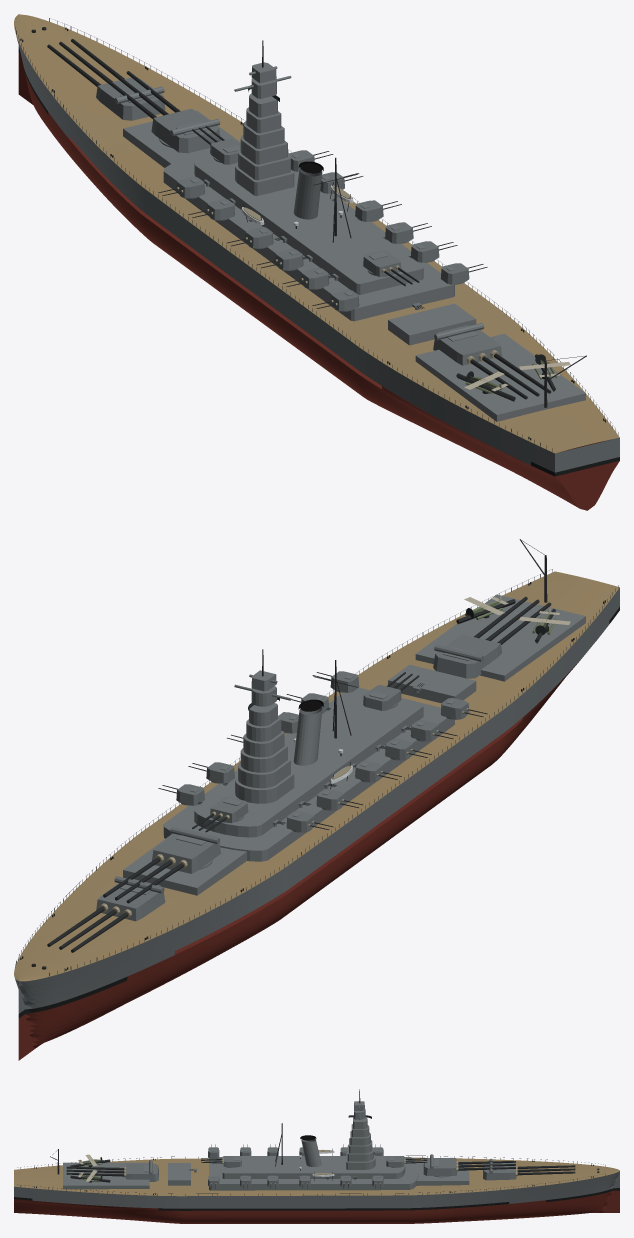
The model's file is yamato.glb.
The picture shows the model from 3 angles, top to bottom: view 1: azimuth 30°, elevation 25°; view 2: azimuth 150°, elevation 25°; view 3: azimuth 270°, elevation 25°; orthographic projection. The views are drawn at different scales.
Visible parts, largest first — view 1: Hull, Turret2, Turret3, Turret1, Turret5, Turret4; view 2: Hull, Turret2, Turret3, Turret1, Turret5, Turret4; view 3: Hull, Turret2, Turret3, Turret1, Turret4, Turret5.
Boxes of the visible parts, left/top/right/bottom form: Hull: left=14, top=14, right=619, bottom=510; Turret2: left=103, top=71, right=220, bottom=153; Turret3: left=433, top=323, right=551, bottom=399; Turret1: left=47, top=39, right=165, bottom=120; Turret5: left=363, top=251, right=419, bottom=286; Turret4: left=192, top=126, right=240, bottom=164; Hull: left=14, top=539, right=619, bottom=1060; Turret2: left=103, top=826, right=220, bottom=903; Turret3: left=433, top=596, right=551, bottom=678; Turret1: left=47, top=876, right=165, bottom=952; Turret5: left=363, top=672, right=419, bottom=710; Turret4: left=192, top=797, right=248, bottom=832; Hull: left=14, top=1089, right=619, bottom=1223; Turret2: left=423, top=1154, right=515, bottom=1177; Turret3: left=66, top=1160, right=158, bottom=1181; Turret1: left=483, top=1158, right=575, bottom=1180; Turret4: left=386, top=1156, right=427, bottom=1167; Turret5: left=201, top=1156, right=241, bottom=1167.
Size of the model in its own units: 46 by 59.9 by 265.
